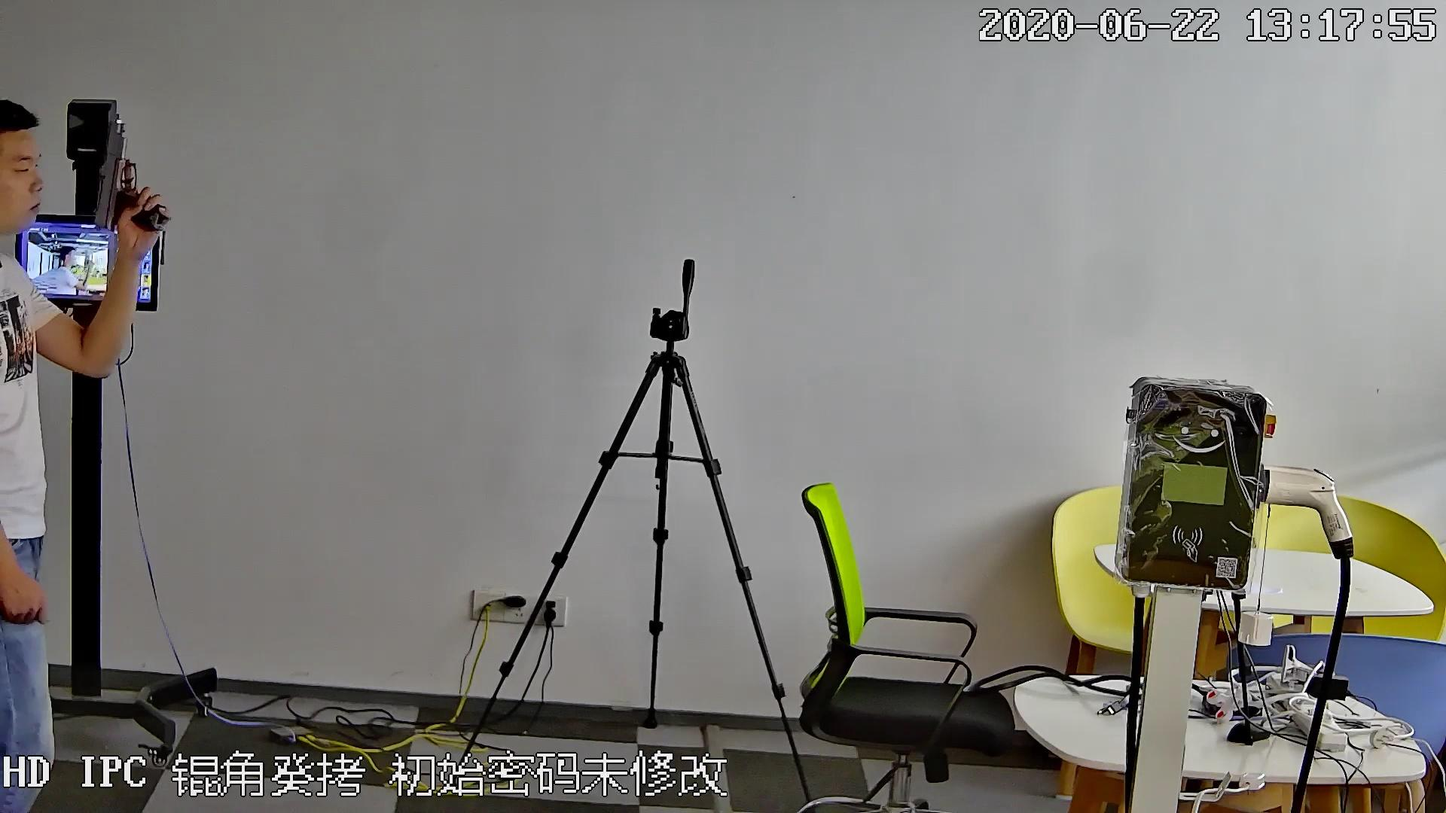gun: (82, 116, 176, 233)
